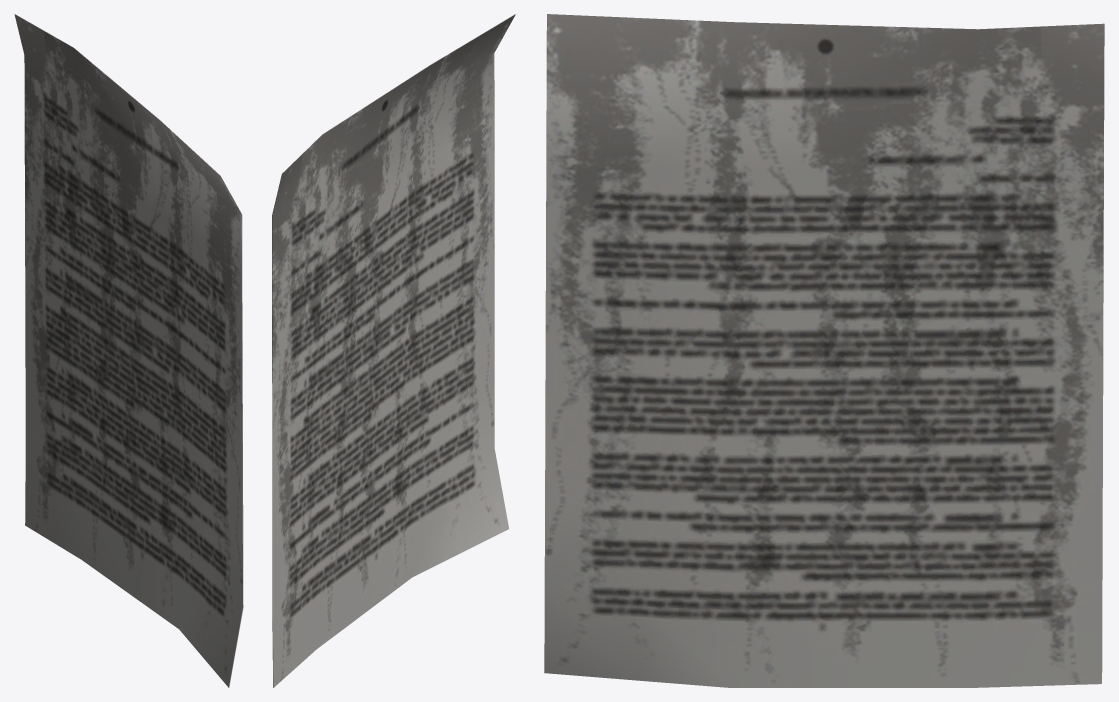
The model's file is paper_reference_010.fbx.
3 renders of one model, left to right at view 1: azimuth 30°, elevation 25°; view 2: azimuth 150°, elevation 25°; view 3: azimuth 270°, elevation 25°, orthographic. The views are drawn at different scales.
Parts seen in each view (by area): view 1: paper_reference.010; view 2: paper_reference.010; view 3: paper_reference.010.
Boxes of the visible parts, x1,y1,x2,y2 form: paper_reference.010: (14, 14, 243, 687); paper_reference.010: (272, 14, 515, 687); paper_reference.010: (544, 14, 1104, 687).
Size of the model in its own units: 3.03 by 47.75 by 36.96.
